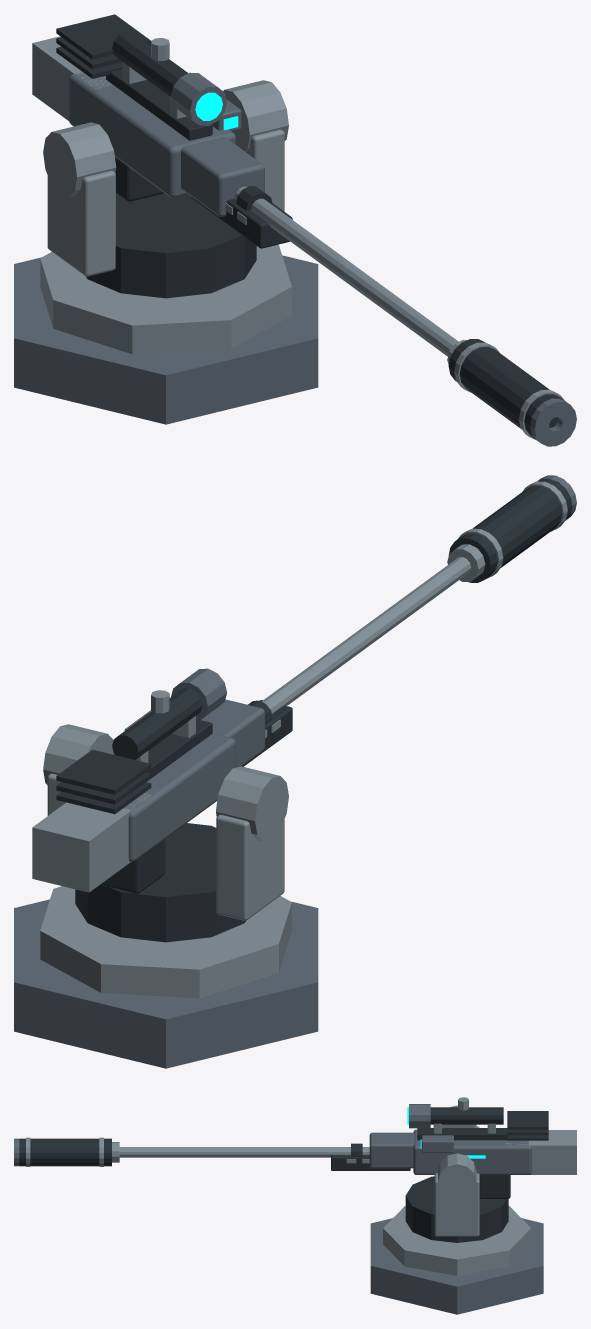
Rendered from needle_t2_d0.glb.
The picture shows the model from 3 angles, top to bottom: view 1: azimuth 30°, elevation 25°; view 2: azimuth 150°, elevation 25°; view 3: azimuth 270°, elevation 25°; orthographic projection. The views are drawn at different scales.
Parts seen in each view (by area): view 1: RECOIL_ARMOR_GEOMETRY, BASE_ARMOR_GEOMETRY, YAW_ARMOR_GEOMETRY, RECOIL_SIGNAL_GEOMETRY; view 2: RECOIL_ARMOR_GEOMETRY, BASE_ARMOR_GEOMETRY, YAW_ARMOR_GEOMETRY; view 3: RECOIL_ARMOR_GEOMETRY, BASE_ARMOR_GEOMETRY, YAW_ARMOR_GEOMETRY.
Part boxes in pixels (<box>): RECOIL_ARMOR_GEOMETRY: <box>32,14,576,446</box>; BASE_ARMOR_GEOMETRY: <box>14,244,318,424</box>; YAW_ARMOR_GEOMETRY: <box>47,129,284,298</box>; RECOIL_SIGNAL_GEOMETRY: <box>195,92,238,130</box>; RECOIL_ARMOR_GEOMETRY: <box>32,475,576,893</box>; BASE_ARMOR_GEOMETRY: <box>14,886,318,1068</box>; YAW_ARMOR_GEOMETRY: <box>47,773,284,942</box>; RECOIL_ARMOR_GEOMETRY: <box>14,1097,576,1199</box>; BASE_ARMOR_GEOMETRY: <box>370,1206,543,1314</box>; YAW_ARMOR_GEOMETRY: <box>405,1126,508,1242</box>.
Size of the model in its own units: 1.55 by 1.48 by 4.37.
